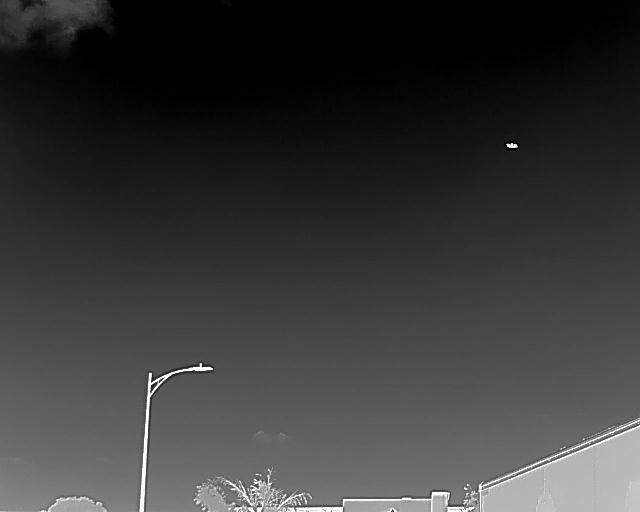fpv-drone: (504, 141, 519, 150)
